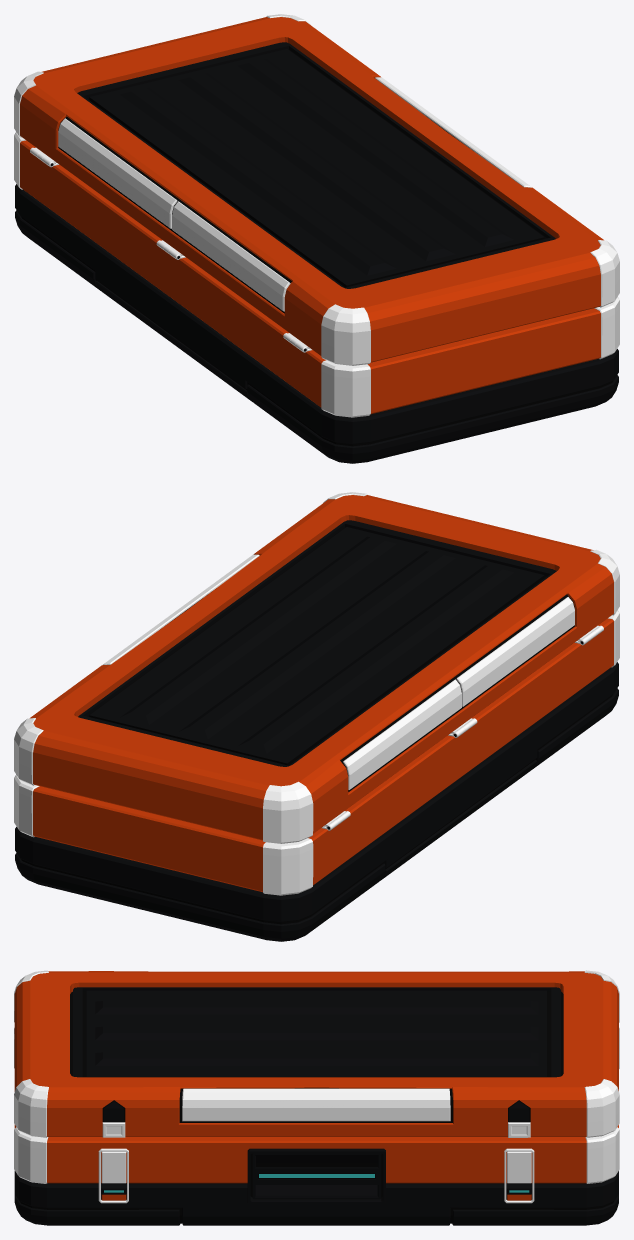
The model's file is SM_Chest.obj.
3 renders of one model, top to bottom at view 1: azimuth 30°, elevation 25°; view 2: azimuth 150°, elevation 25°; view 3: azimuth 270°, elevation 25°, orthographic. The views are drawn at different scales.
Visible parts, largest first — view 1: SM_Chest_Lid, SM_Chest_Body; view 2: SM_Chest_Lid, SM_Chest_Body; view 3: SM_Chest_Lid, SM_Chest_Body.
Boxes of the visible parts, box(x1,y1,x2,y2) form: SM_Chest_Lid: box(14, 14, 619, 365); SM_Chest_Body: box(14, 132, 619, 463); SM_Chest_Lid: box(14, 492, 619, 843); SM_Chest_Body: box(14, 610, 619, 941); SM_Chest_Lid: box(14, 970, 619, 1137); SM_Chest_Body: box(14, 1027, 619, 1225).
Bounding box in the file's own units: 0.4132 × 0.2013 × 0.8024.
